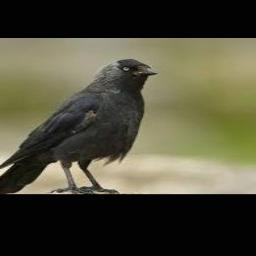Crow: (0, 59, 156, 194)
